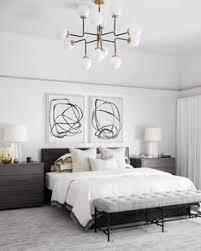bed: (45, 147, 199, 228)
light: (51, 1, 148, 76), (2, 119, 30, 163), (143, 124, 163, 158)
sofa: (91, 196, 201, 242)
table: (1, 161, 45, 212), (131, 156, 178, 169)
